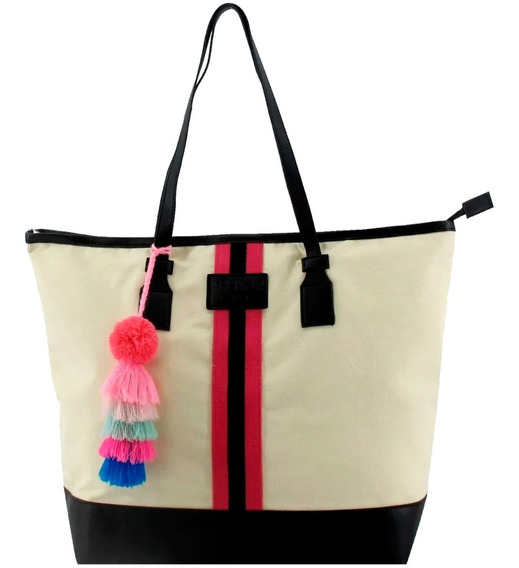cartera: (25, 2, 456, 566)
